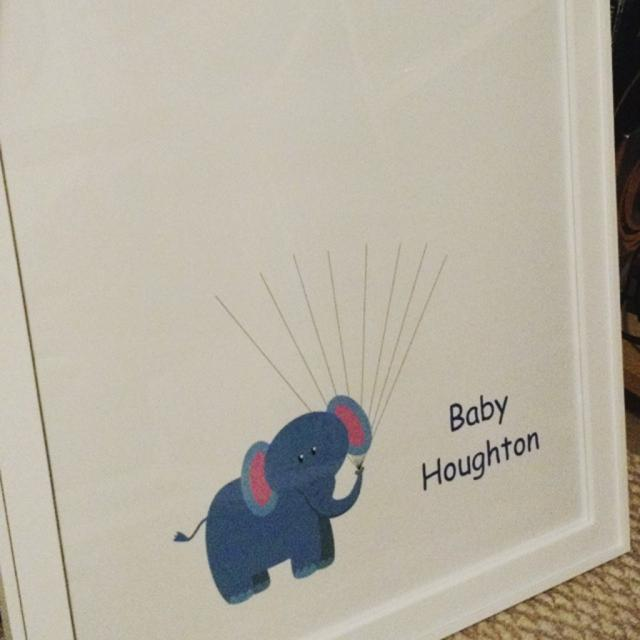elephant: (169, 395, 375, 604)
